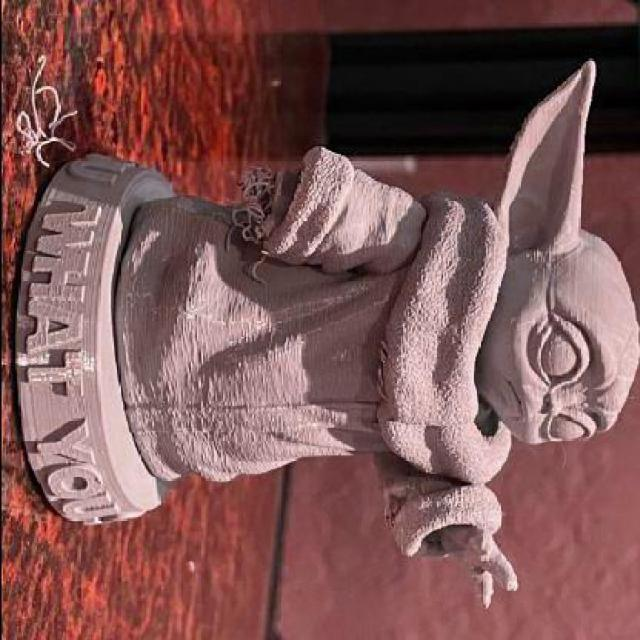spaghetti: (10, 52, 84, 197), (228, 165, 291, 253)
